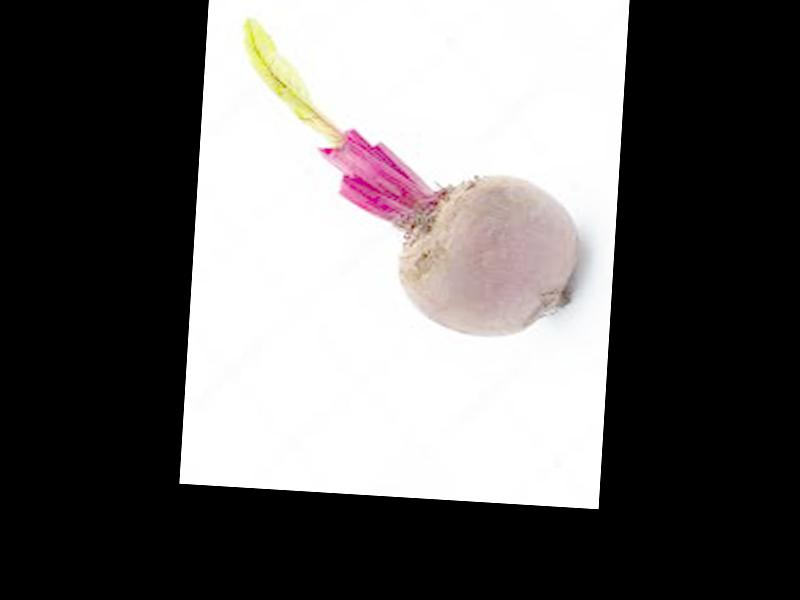Beet: (226, 20, 590, 342)
